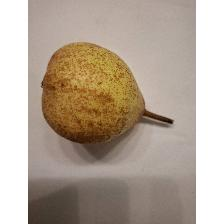Birne: (40, 40, 178, 146)
